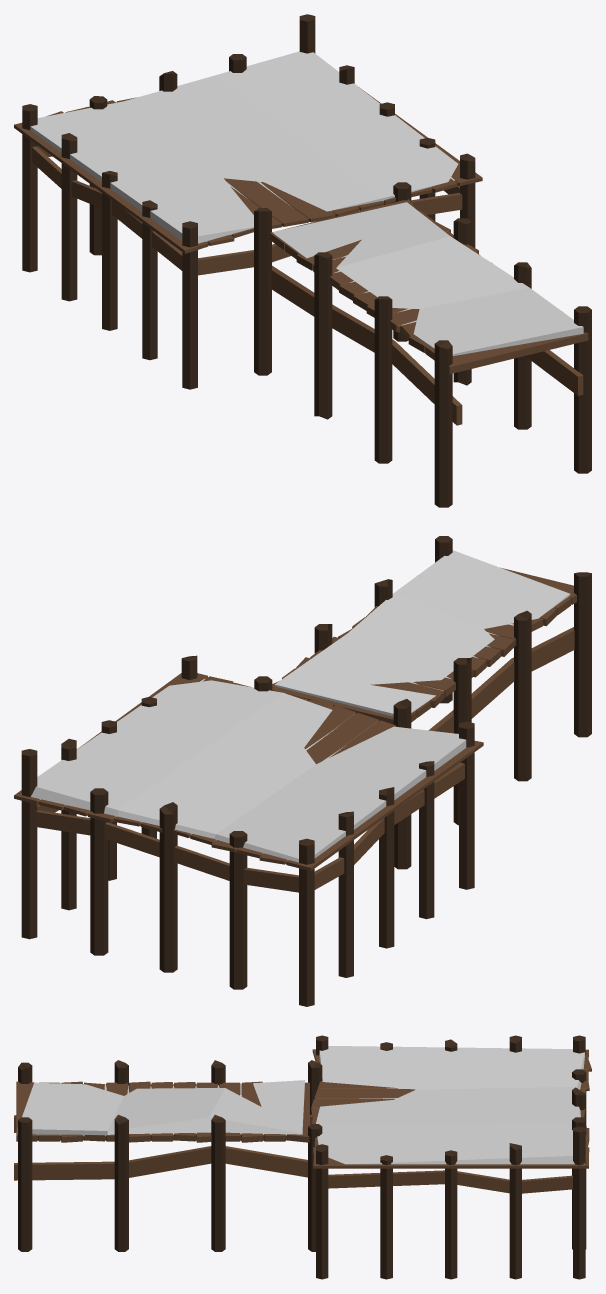
The model's file is fishery_base_snow_mat.fbx.
3 renders of one model, top to bottom at view 1: azimuth 30°, elevation 25°; view 2: azimuth 150°, elevation 25°; view 3: azimuth 270°, elevation 25°, orthographic. The views are drawn at different scales.
Parts seen in each view (by area): view 1: fishery_base_snow_mat; view 2: fishery_base_snow_mat; view 3: fishery_base_snow_mat.
Boxes of the visible parts, x1,y1,x2,y2 form: fishery_base_snow_mat: (14,14,591,507); fishery_base_snow_mat: (14,536,591,1006); fishery_base_snow_mat: (14,1035,591,1279).
Bounding box in the file's own units: 326 × 191 × 682.
